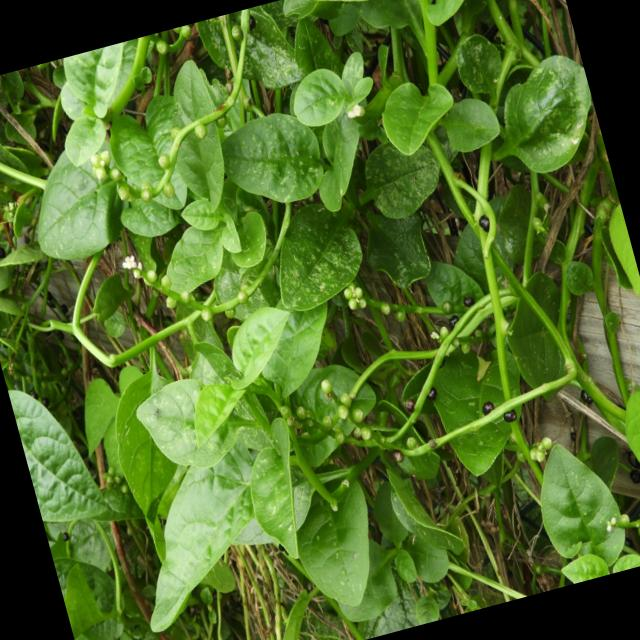Medicinal-Basale: (1, 0, 611, 365), (66, 233, 470, 640), (490, 420, 640, 595)
